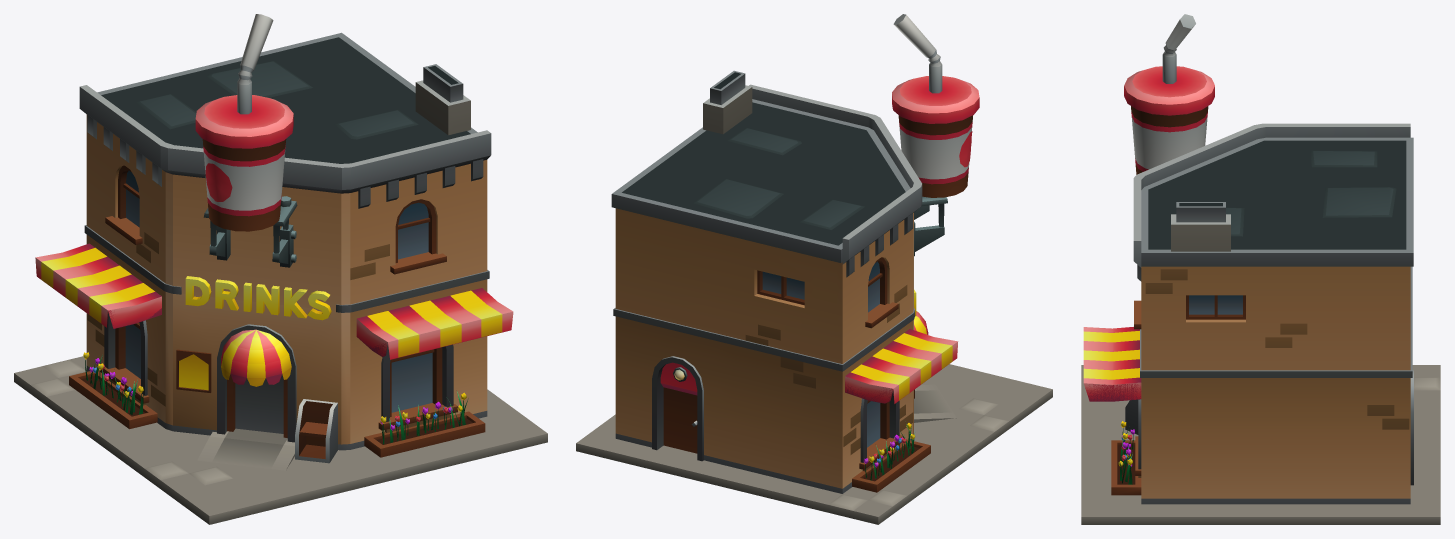
File: Building_18A.fbx
The picture shows the model from 3 angles, left to right: view 1: azimuth 30°, elevation 25°; view 2: azimuth 150°, elevation 25°; view 3: azimuth 270°, elevation 25°; orthographic projection. The views are drawn at different scales.
Parts seen in each view (by area): view 1: Building_18A, Canopy_18A_R, Canopy_18A_L; view 2: Building_18A, Canopy_18A_L; view 3: Building_18A, Canopy_18A_R.
Boxes of the visible parts, box(x1,y1,x2,y2) form: Building_18A: box(14, 14, 547, 524); Canopy_18A_R: box(356, 288, 513, 359); Canopy_18A_L: box(35, 243, 161, 328); Building_18A: box(576, 14, 1052, 524); Canopy_18A_L: box(845, 329, 958, 403); Building_18A: box(1081, 14, 1440, 524); Canopy_18A_R: box(1083, 327, 1141, 401).
Size of the model in its own units: 1200 by 1501 by 1200.
